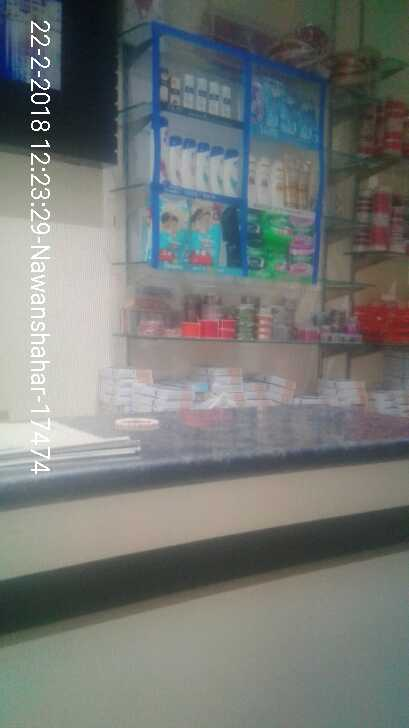venus: (264, 81, 285, 127), (298, 98, 320, 139), (287, 90, 298, 139)
